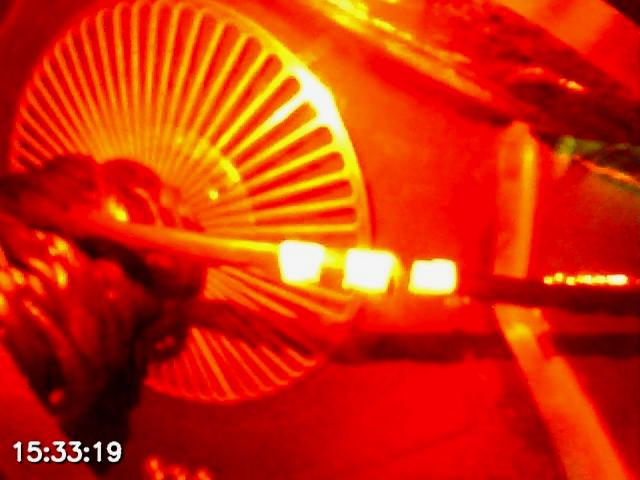white-dots: (276, 238, 459, 296)
